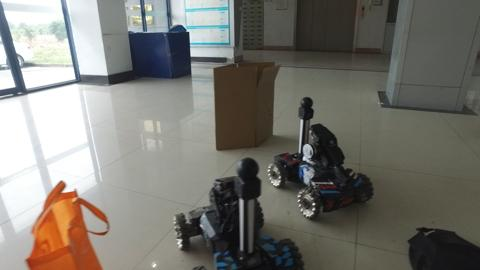box: (212, 56, 274, 150)
chariot: (175, 153, 304, 270), (269, 96, 377, 216)
